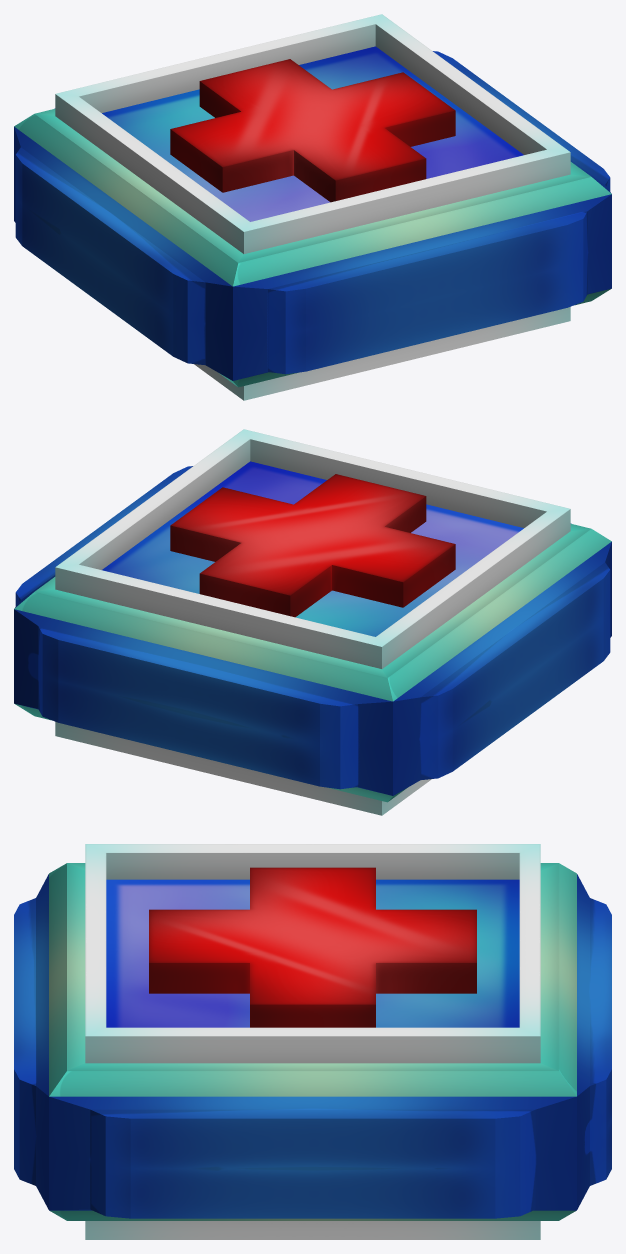
Rendered from Healkit.FBX.
3 views of the same model, one above another, from view 1: azimuth 30°, elevation 25°; view 2: azimuth 150°, elevation 25°; view 3: azimuth 270°, elevation 25° (orthographic). The views are drawn at different scales.
Parts seen in each view (by area): view 1: Box100; view 2: Box100; view 3: Box100.
Boxes of the visible parts, <box> form: Box100: <box>14,14,611,400</box>; Box100: <box>14,429,611,815</box>; Box100: <box>14,844,611,1239</box>.
Bounding box in the file's own units: 8.44 × 8.41 × 3.28.
1 material, 1 textured.
